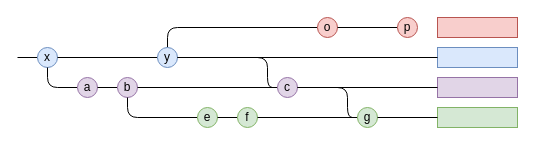
The diagram is 535 pixels wide and 145 high, and some of its shapes have lost their labels. The shapes that lost their labels are listed below. From the top down, each one's box as (x1, y1, x2, y2) in pixels, then its label:
(436, 16, 518, 38): branch-0
(436, 46, 518, 68): branch-1
(436, 76, 518, 98): branch-2
(436, 106, 518, 128): branch-3
